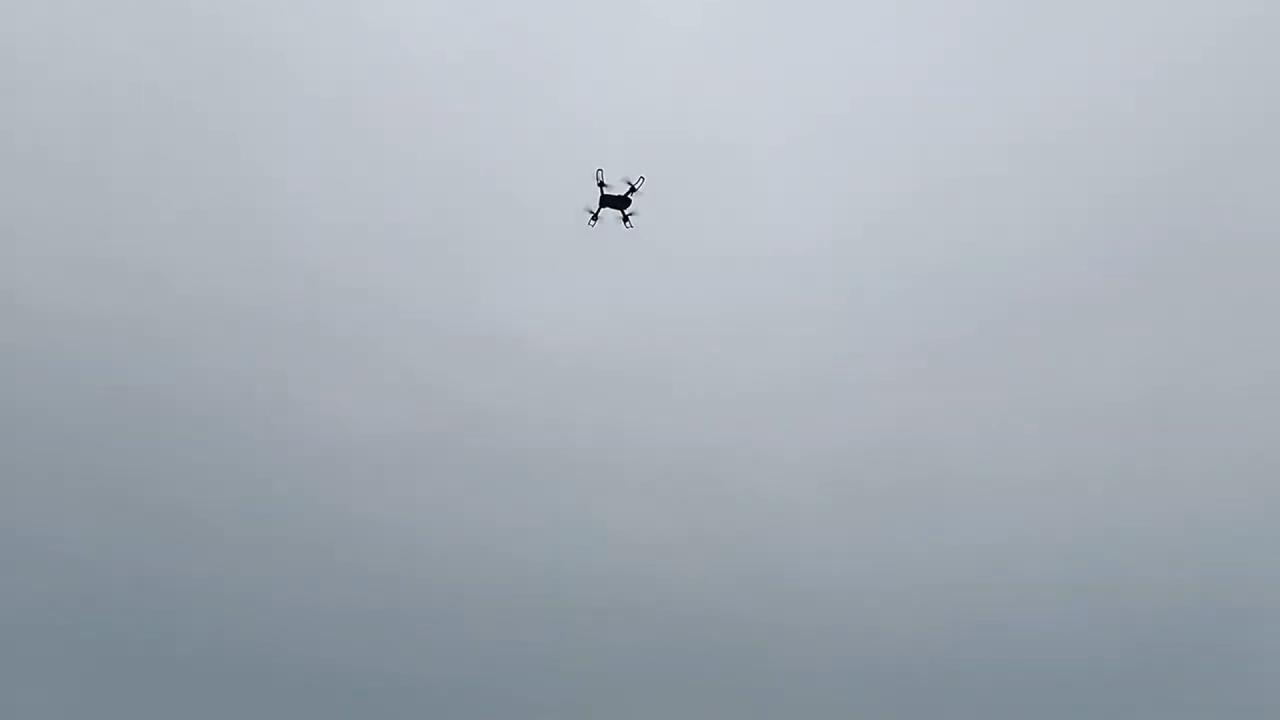Drone: (577, 160, 649, 236)
